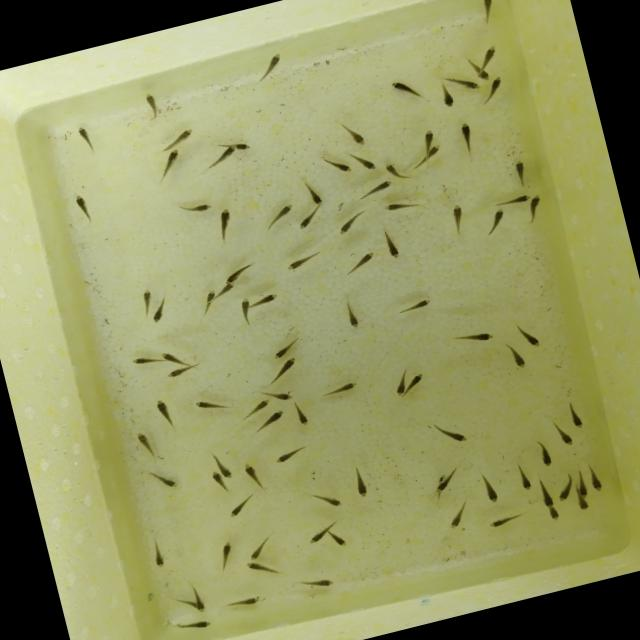fingerling: (243, 556, 284, 584), (150, 149, 184, 182), (200, 144, 240, 172), (457, 324, 498, 350), (300, 571, 341, 595), (432, 421, 467, 449), (322, 152, 357, 180), (141, 468, 176, 496), (312, 487, 350, 512), (331, 210, 366, 237), (343, 251, 378, 277), (482, 209, 512, 239), (260, 47, 290, 77), (443, 500, 473, 530), (262, 200, 298, 225), (253, 408, 290, 432), (273, 352, 307, 378), (170, 616, 212, 636), (481, 466, 502, 506), (295, 202, 327, 228), (223, 494, 256, 519), (325, 377, 362, 399), (247, 534, 276, 562), (445, 202, 469, 235), (352, 148, 381, 175), (267, 336, 297, 362), (166, 125, 201, 147), (434, 78, 458, 110), (350, 467, 374, 499), (507, 336, 528, 372), (154, 394, 176, 428), (178, 199, 215, 219), (358, 179, 394, 199), (381, 228, 401, 264), (482, 512, 518, 532), (216, 205, 237, 238), (214, 544, 237, 574), (386, 76, 416, 99), (274, 443, 310, 462), (492, 192, 532, 209), (519, 323, 544, 350), (430, 475, 459, 498), (161, 362, 198, 380), (244, 462, 266, 492), (343, 122, 367, 149), (278, 255, 314, 273), (302, 180, 325, 208), (73, 190, 93, 222), (383, 159, 408, 184), (476, 40, 502, 64), (552, 478, 576, 504), (227, 596, 265, 612), (524, 198, 546, 225), (536, 442, 556, 471), (386, 198, 420, 215), (194, 290, 218, 314), (400, 296, 436, 312), (586, 462, 604, 494), (148, 300, 170, 326), (242, 399, 272, 418), (536, 478, 555, 508), (221, 270, 256, 286), (516, 462, 534, 493), (404, 371, 428, 394), (468, 60, 490, 85), (76, 123, 96, 150), (566, 403, 586, 430), (342, 302, 361, 330), (268, 387, 296, 406), (192, 394, 220, 413), (454, 76, 483, 94), (458, 120, 477, 147), (238, 299, 255, 329), (293, 400, 311, 428), (574, 485, 590, 516), (129, 352, 158, 369), (510, 161, 528, 188), (419, 144, 446, 162), (149, 543, 167, 570), (306, 526, 330, 546), (216, 452, 232, 482), (554, 424, 574, 448), (418, 125, 438, 148), (252, 292, 282, 307), (143, 91, 160, 117), (488, 74, 505, 100), (138, 286, 156, 310), (162, 348, 184, 367), (230, 138, 256, 154), (136, 430, 152, 456), (209, 468, 225, 494), (576, 470, 590, 498), (478, 0, 498, 19), (329, 531, 348, 551), (215, 280, 238, 296), (190, 592, 206, 614), (392, 374, 406, 396), (548, 507, 562, 525)
